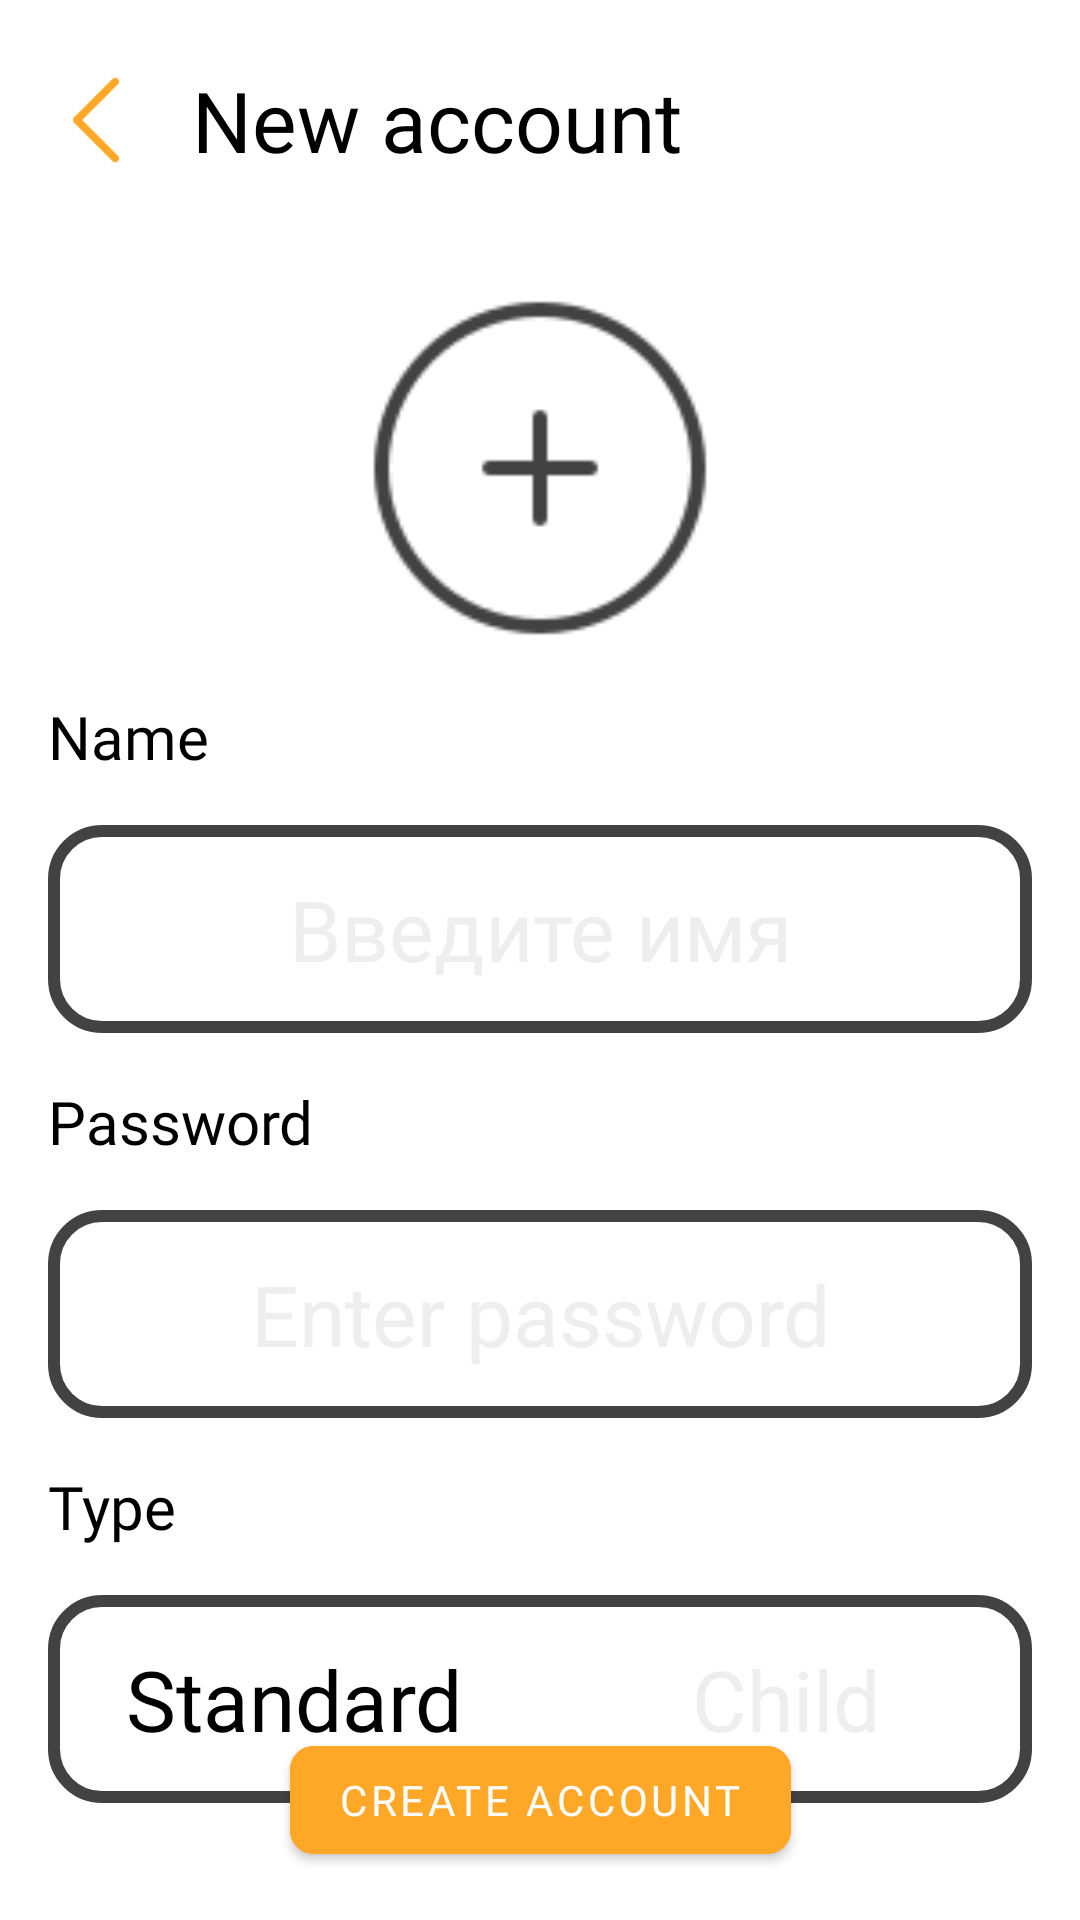

Where icons sit on this 1080 x 1920 app screen, as (x1, y1, x2, y2):
back button: (73, 77, 119, 163)
